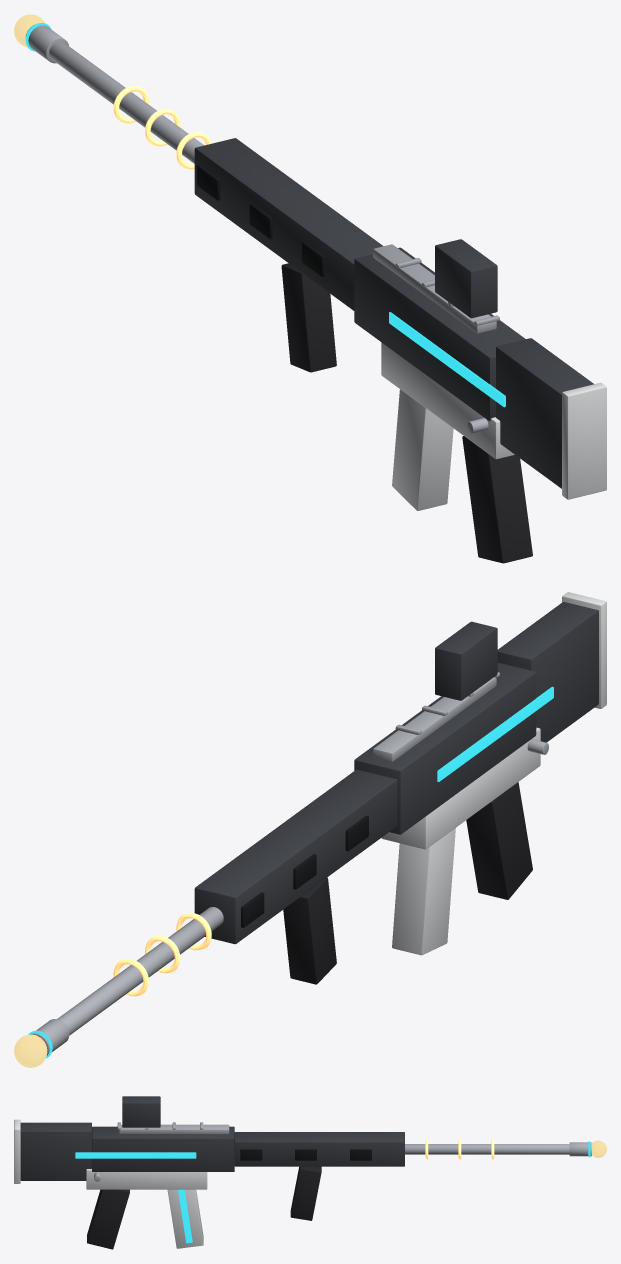
File: zarya4.glb
3 renders of one model, top to bottom at view 1: azimuth 30°, elevation 25°; view 2: azimuth 150°, elevation 25°; view 3: azimuth 270°, elevation 25°, orthographic. The views are drawn at different scales.
Parts seen in each view (by area): view 1: SM_Zarya4_Shroud, SM_Zarya4_Receiver_Upper, SM_Zarya4_Stock, SM_Zarya4_Grip, SM_Zarya4_PowerCell_Mag, SM_Zarya4_ButtPlate, SM_Zarya4_Foregrip, SM_Zarya4_Receiver_Lower, SM_Zarya4_Holo_Housing, SM_Zarya4_Barrel, SM_Zarya4_Rail_Top, SM_Zarya4_SideStrip_L (+1 smaller); view 2: SM_Zarya4_Shroud, SM_Zarya4_Receiver_Upper, SM_Zarya4_Stock, SM_Zarya4_PowerCell_Mag, SM_Zarya4_Grip, SM_Zarya4_Receiver_Lower, SM_Zarya4_Foregrip, SM_Zarya4_Holo_Housing, SM_Zarya4_Barrel, SM_Zarya4_Rail_Top, SM_Zarya4_SideStrip_L, SM_Zarya4_ButtPlate (+2 smaller); view 3: SM_Zarya4_Shroud, SM_Zarya4_Receiver_Upper, SM_Zarya4_Stock, SM_Zarya4_Receiver_Lower, SM_Zarya4_Grip, SM_Zarya4_Barrel, SM_Zarya4_PowerCell_Mag, SM_Zarya4_Foregrip, SM_Zarya4_Holo_Housing, SM_Zarya4_Rail_Top, SM_Zarya4_SideStrip_R, SM_Zarya4_ButtPlate (+6 smaller).
Part boxes in pixels (box(x1,y1,x2,y2)): SM_Zarya4_Shroud: box(194, 138, 383, 310); SM_Zarya4_Receiver_Upper: box(354, 247, 525, 421); SM_Zarya4_Stock: box(496, 338, 593, 488); SM_Zarya4_Grip: box(462, 436, 532, 563); SM_Zarya4_PowerCell_Mag: box(392, 389, 453, 510); SM_Zarya4_ButtPlate: box(562, 382, 606, 499); SM_Zarya4_Foregrip: box(281, 263, 336, 372); SM_Zarya4_Receiver_Lower: box(381, 342, 514, 459); SM_Zarya4_Holo_Housing: box(435, 239, 497, 318); SM_Zarya4_Barrel: box(49, 41, 203, 163); SM_Zarya4_Rail_Top: box(373, 244, 496, 333); SM_Zarya4_SideStrip_L: box(389, 312, 505, 407); SM_Zarya4_Shroud: box(194, 769, 397, 944); SM_Zarya4_Receiver_Upper: box(354, 662, 536, 834); SM_Zarya4_Stock: box(497, 602, 598, 742); SM_Zarya4_PowerCell_Mag: box(392, 828, 455, 955); SM_Zarya4_Grip: box(466, 782, 532, 899); SM_Zarya4_Receiver_Lower: box(381, 727, 540, 849); SM_Zarya4_Foregrip: box(283, 877, 336, 984); SM_Zarya4_Holo_Housing: box(435, 621, 497, 700); SM_Zarya4_Barrel: box(57, 907, 223, 1035); SM_Zarya4_Rail_Top: box(373, 677, 496, 761); SM_Zarya4_SideStrip_L: box(437, 686, 553, 781); SM_Zarya4_ButtPlate: box(562, 592, 606, 708); SM_Zarya4_Shroud: box(234, 1132, 404, 1166); SM_Zarya4_Receiver_Upper: box(92, 1126, 234, 1171); SM_Zarya4_Stock: box(20, 1122, 91, 1180); SM_Zarya4_Receiver_Lower: box(86, 1169, 207, 1189); SM_Zarya4_Grip: box(87, 1189, 129, 1249); SM_Zarya4_Barrel: box(405, 1144, 569, 1154); SM_Zarya4_PowerCell_Mag: box(167, 1189, 203, 1248); SM_Zarya4_Foregrip: box(290, 1166, 321, 1220); SM_Zarya4_Holo_Housing: box(122, 1096, 160, 1127); SM_Zarya4_Rail_Top: box(119, 1124, 229, 1134); SM_Zarya4_SideStrip_R: box(75, 1152, 196, 1158); SM_Zarya4_ButtPlate: box(14, 1119, 20, 1183).
Bounding box in the file's own units: 0.084 × 0.294 × 1.08.
